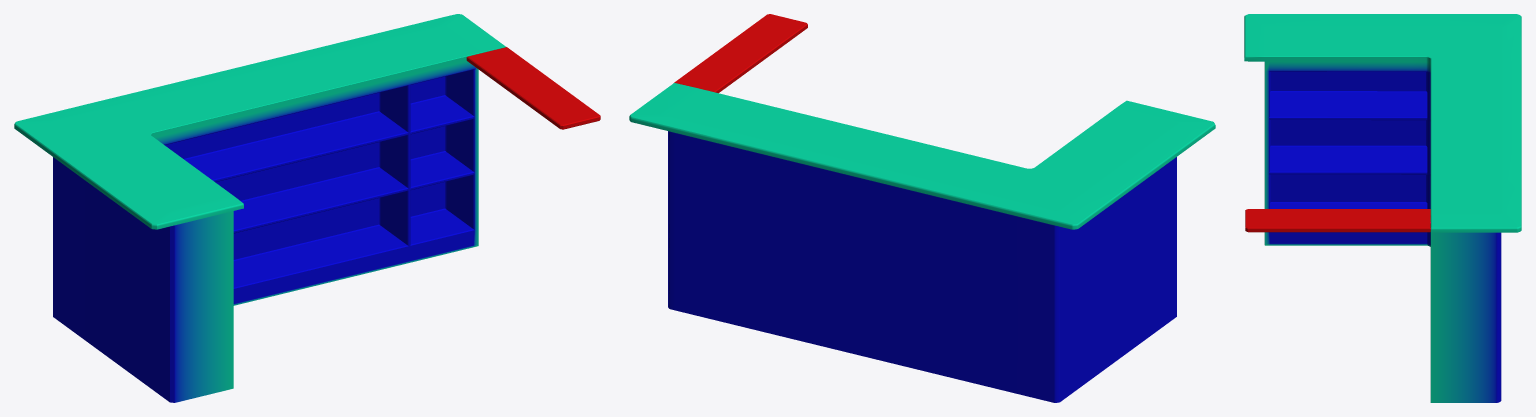
The model's file is comptoir_mode_Uvs.fbx.
3 views of the same model, side by side, from view 1: azimuth 30°, elevation 25°; view 2: azimuth 150°, elevation 25°; view 3: azimuth 270°, elevation 25° (orthographic). The views are drawn at different scales.
Visible parts, largest first — view 1: pCylinder4.001; view 2: pCylinder4.001; view 3: pCylinder4.001.
Boxes of the visible parts, bbox=[...] form: pCylinder4.001: bbox=[14, 14, 600, 402]; pCylinder4.001: bbox=[629, 14, 1215, 402]; pCylinder4.001: bbox=[1244, 14, 1521, 402].
Size of the model in its own units: 7.21 by 2.96 by 3.94.
